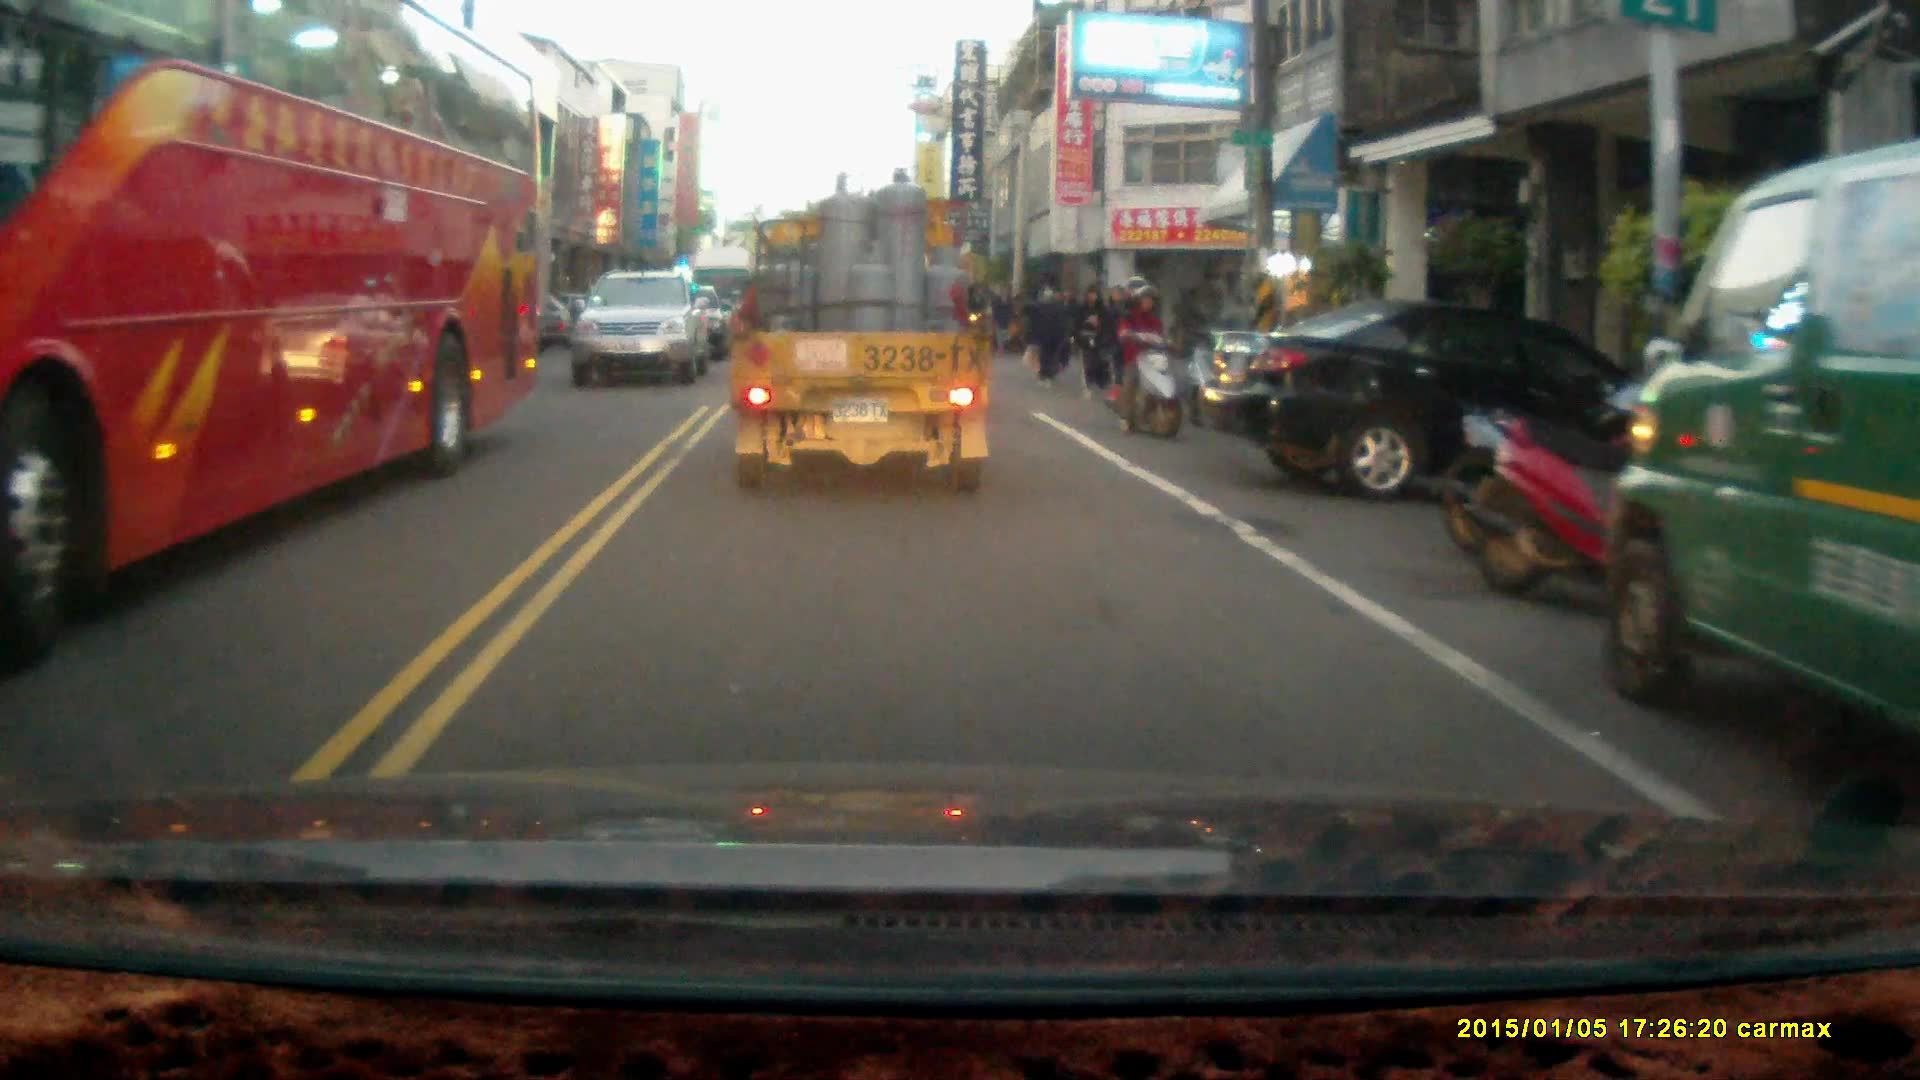pedestrian: (1074, 282, 1114, 401), (1027, 281, 1068, 385), (991, 284, 1016, 357)
rider: (1112, 274, 1182, 440)
vehicle: (1, 7, 550, 638), (1612, 132, 1920, 716), (1189, 302, 1701, 497), (726, 164, 998, 498), (570, 270, 710, 388)
